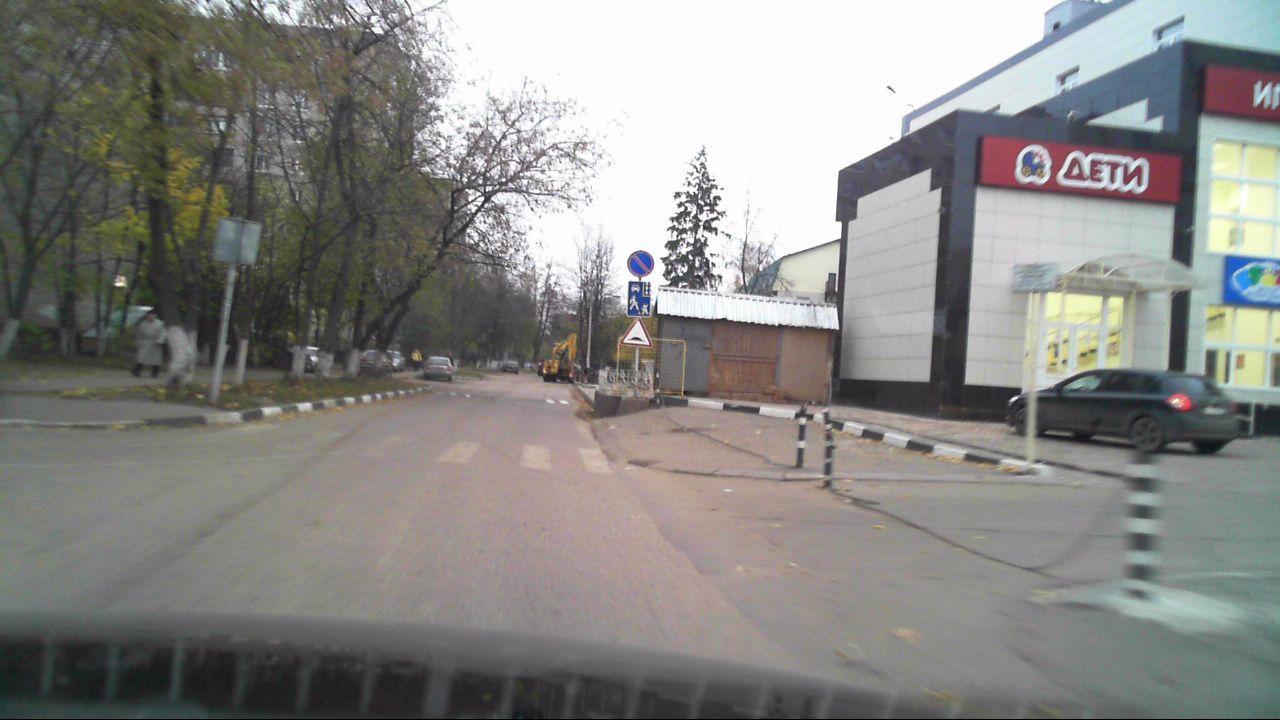1_17: (618, 316, 655, 347)
3_28: (626, 249, 656, 277)
5_21: (627, 282, 651, 317)
